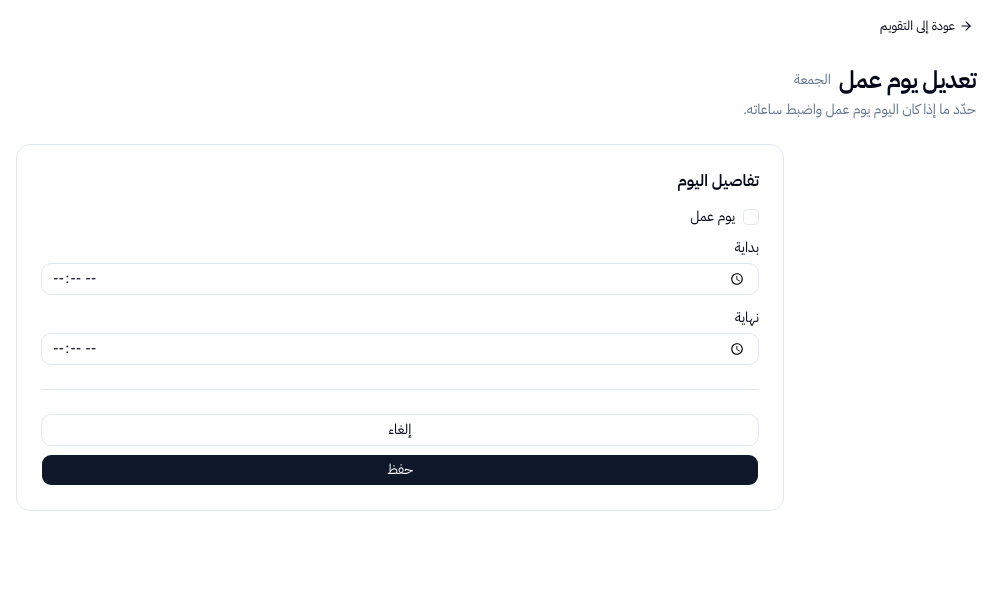
Test: calendar weekday edit page › seeds a non-working weekday as a clean toggle without hours
The image size is (994, 592).
Expected: the time field labelled "بداية" is empty, [41,263,759,295]
Expected: the time field labelled "نهاية" is empty, [41,333,759,365]
Click the checkbox named "يوم عمل" at (751, 217), box [743,209,759,225]
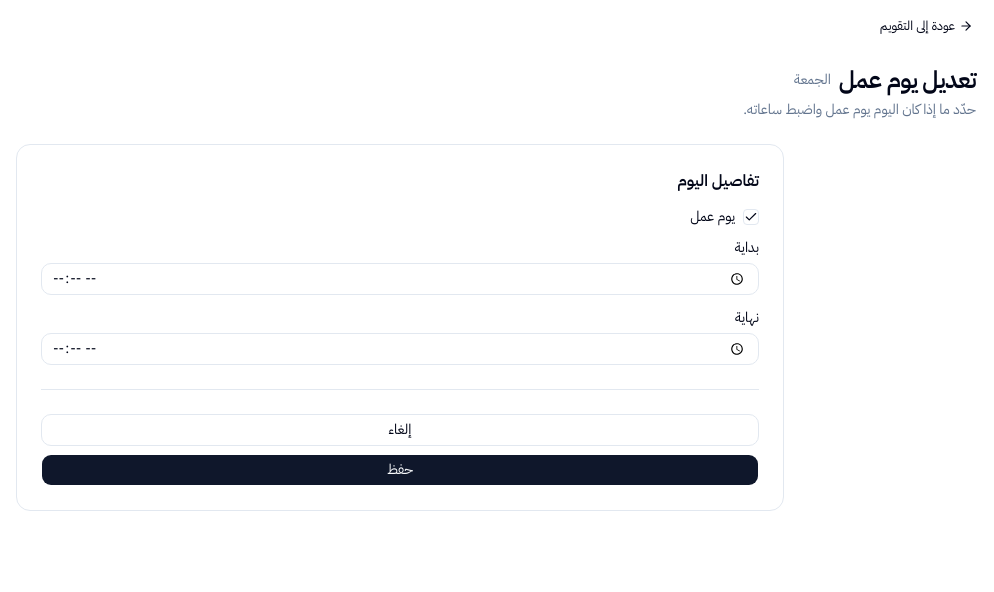
Result: the checkbox named "يوم عمل" is checked at [743,209,759,225]
Click the button "حفظ" at (400, 470), box [41,454,759,486]
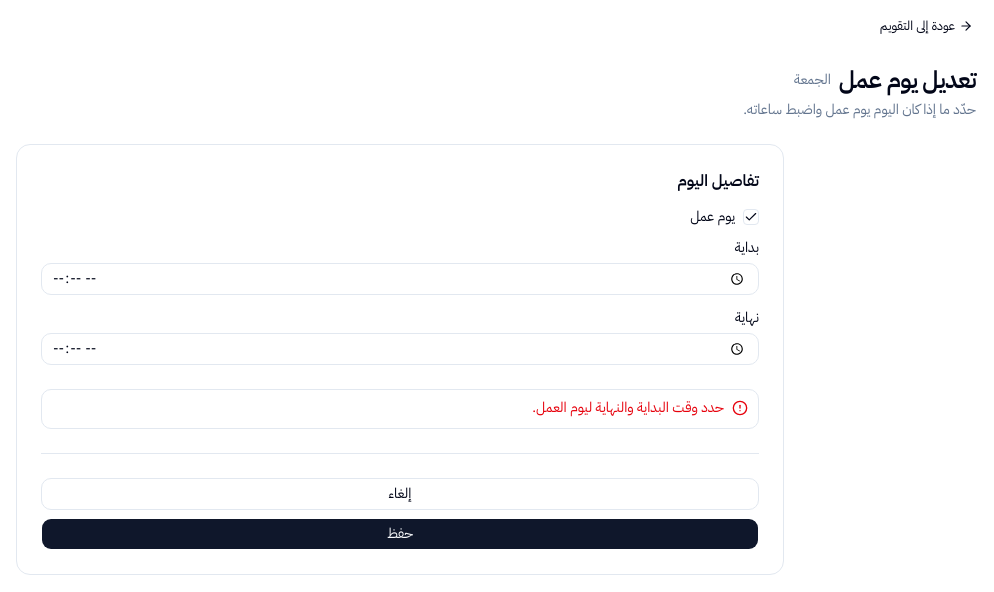
Result: the text "حدد وقت البداية والنهاية ليوم العمل." is shown at [532,397,724,418]
